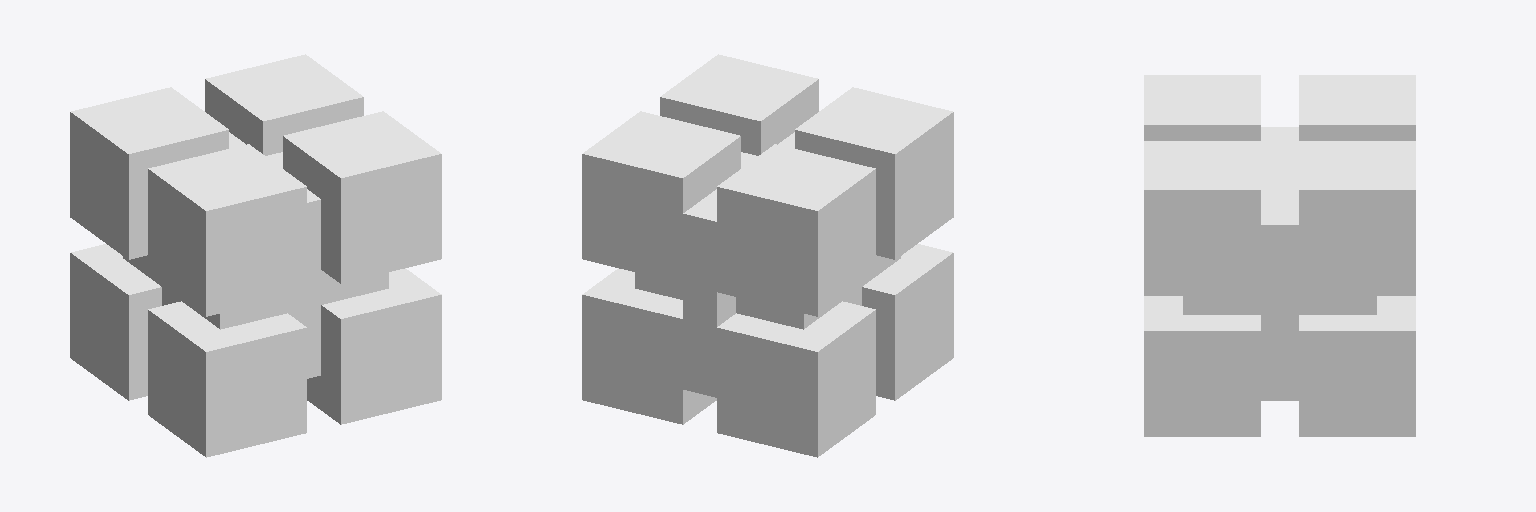
File: blockTwoSides.obj
3 views of the same model, side by side, from view 1: azimuth 30°, elevation 25°; view 2: azimuth 150°, elevation 25°; view 3: azimuth 270°, elevation 25° (orthographic).
Visible parts, largest first — view 1: object 1; view 2: object 1; view 3: object 1.
Part boxes in pixels (x1,y1,x2,y2): object 1: (70,54,441,457); object 1: (582,54,953,457); object 1: (1144,75,1415,436).
Bounding box in the file's own units: 0.7 × 0.7 × 0.7.